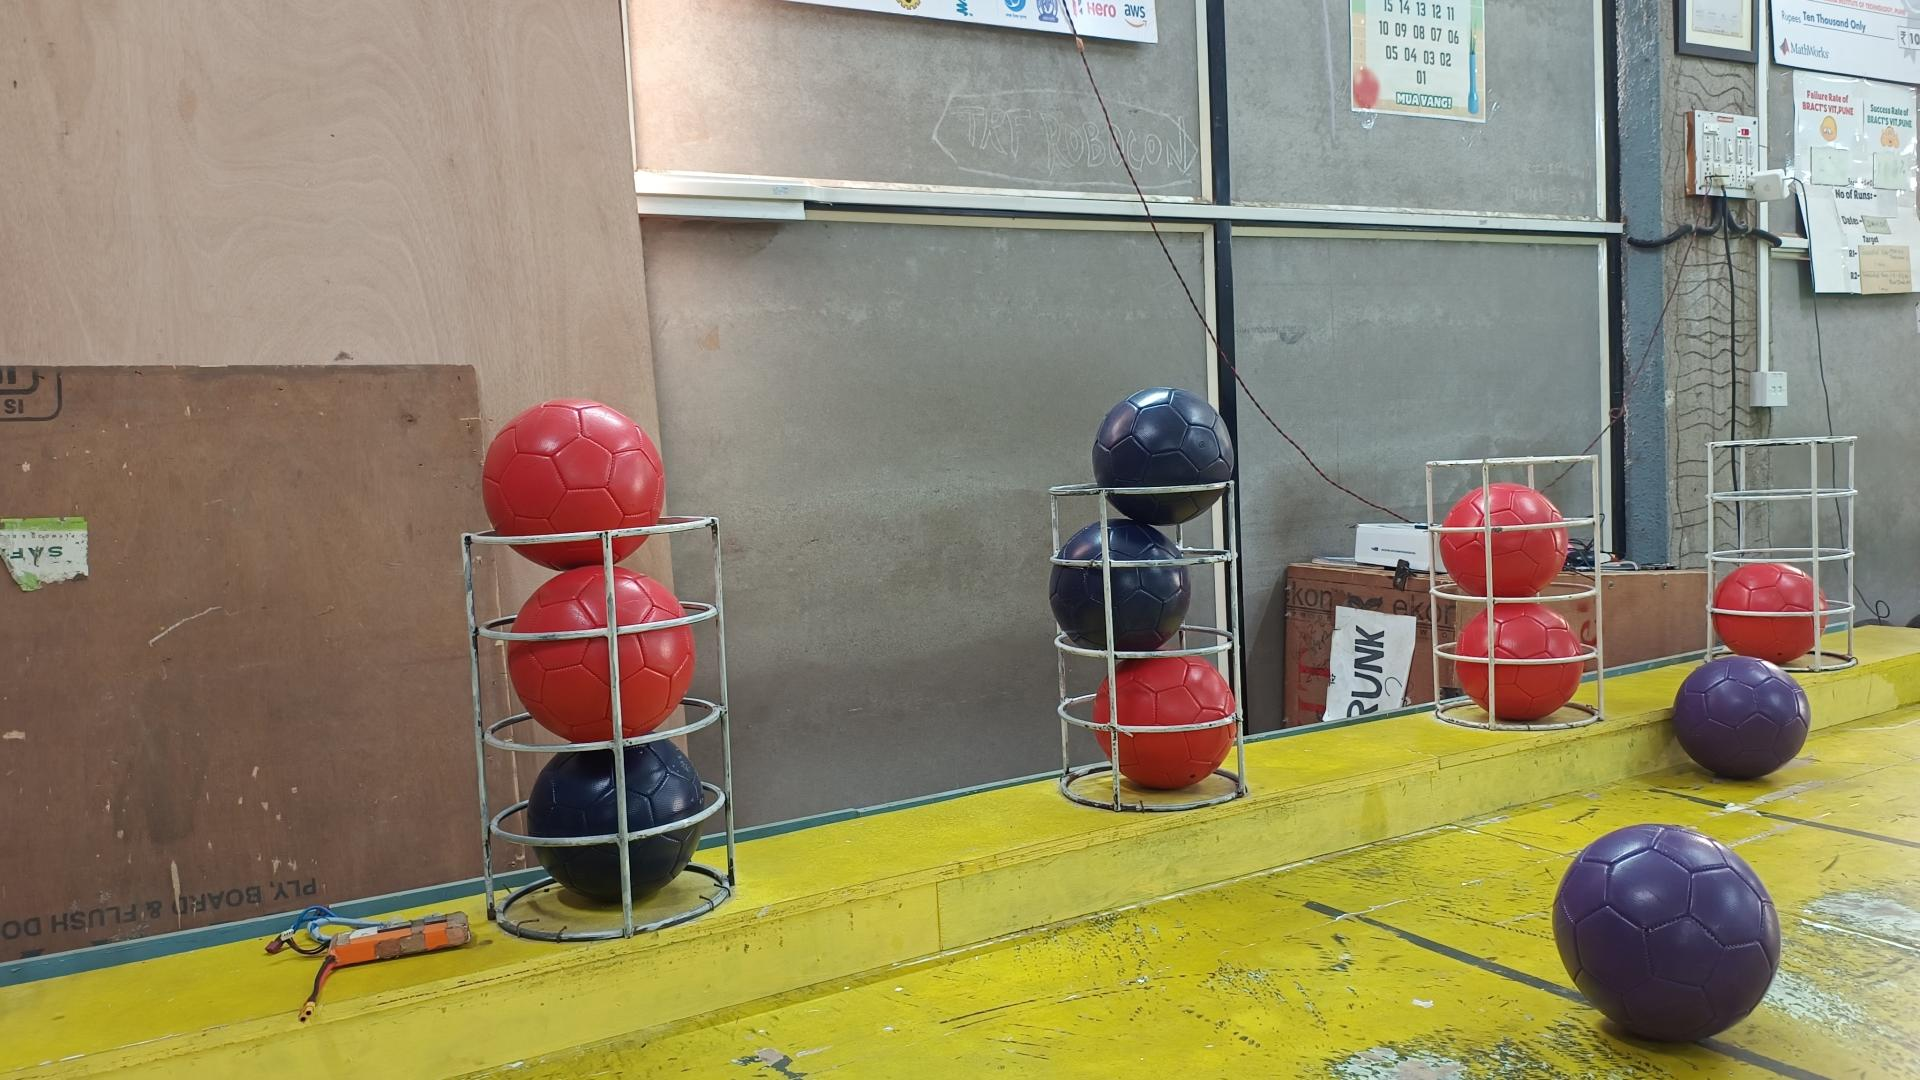dhoka: (527, 741, 707, 902), (1091, 388, 1233, 527), (1050, 517, 1192, 653)
laale: (508, 564, 695, 744), (481, 400, 665, 572), (1091, 653, 1236, 787), (1455, 601, 1582, 721), (1437, 481, 1568, 599), (1710, 563, 1826, 663)
